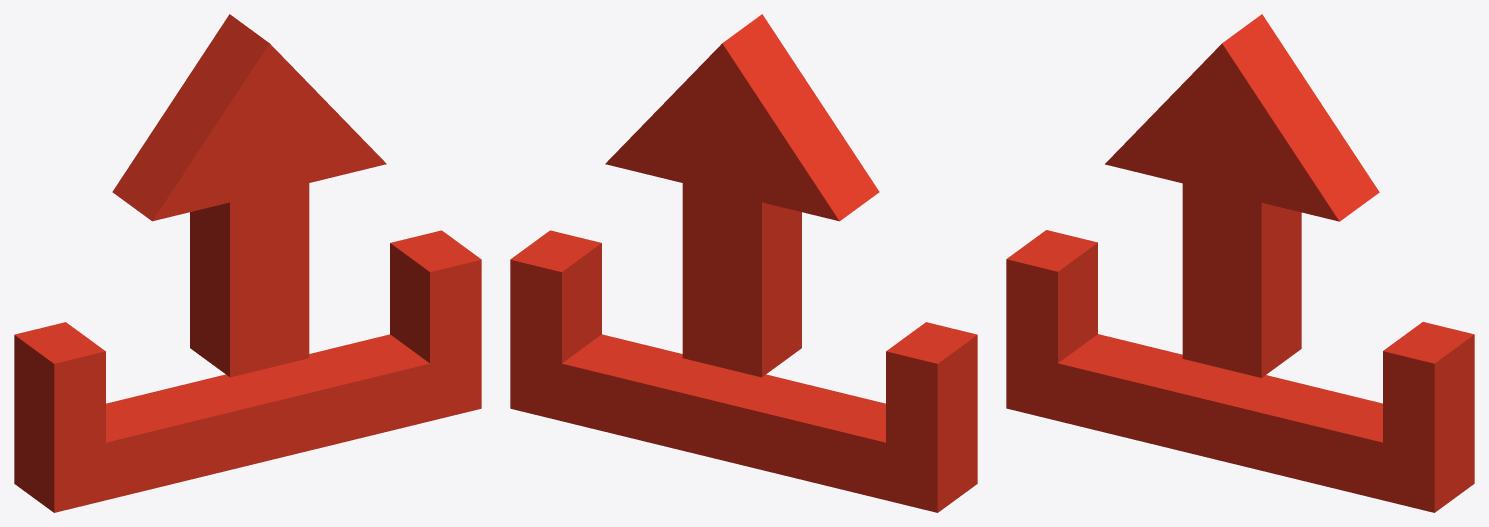
Rendered from Icon_Upload.fbx.
The picture shows the model from 3 angles, left to right: view 1: azimuth 30°, elevation 25°; view 2: azimuth 150°, elevation 25°; view 3: azimuth 330°, elevation 25°; orthographic projection.
Parts seen in each view (by area): view 1: Icon_Upload; view 2: Icon_Upload; view 3: Icon_Upload.
Boxes of the visible parts, bbox=[...] form: Icon_Upload: bbox=[14, 14, 481, 512]; Icon_Upload: bbox=[510, 14, 977, 512]; Icon_Upload: bbox=[1006, 14, 1474, 512].
Size of the model in its own units: 74.46 by 69.41 by 12.06.
